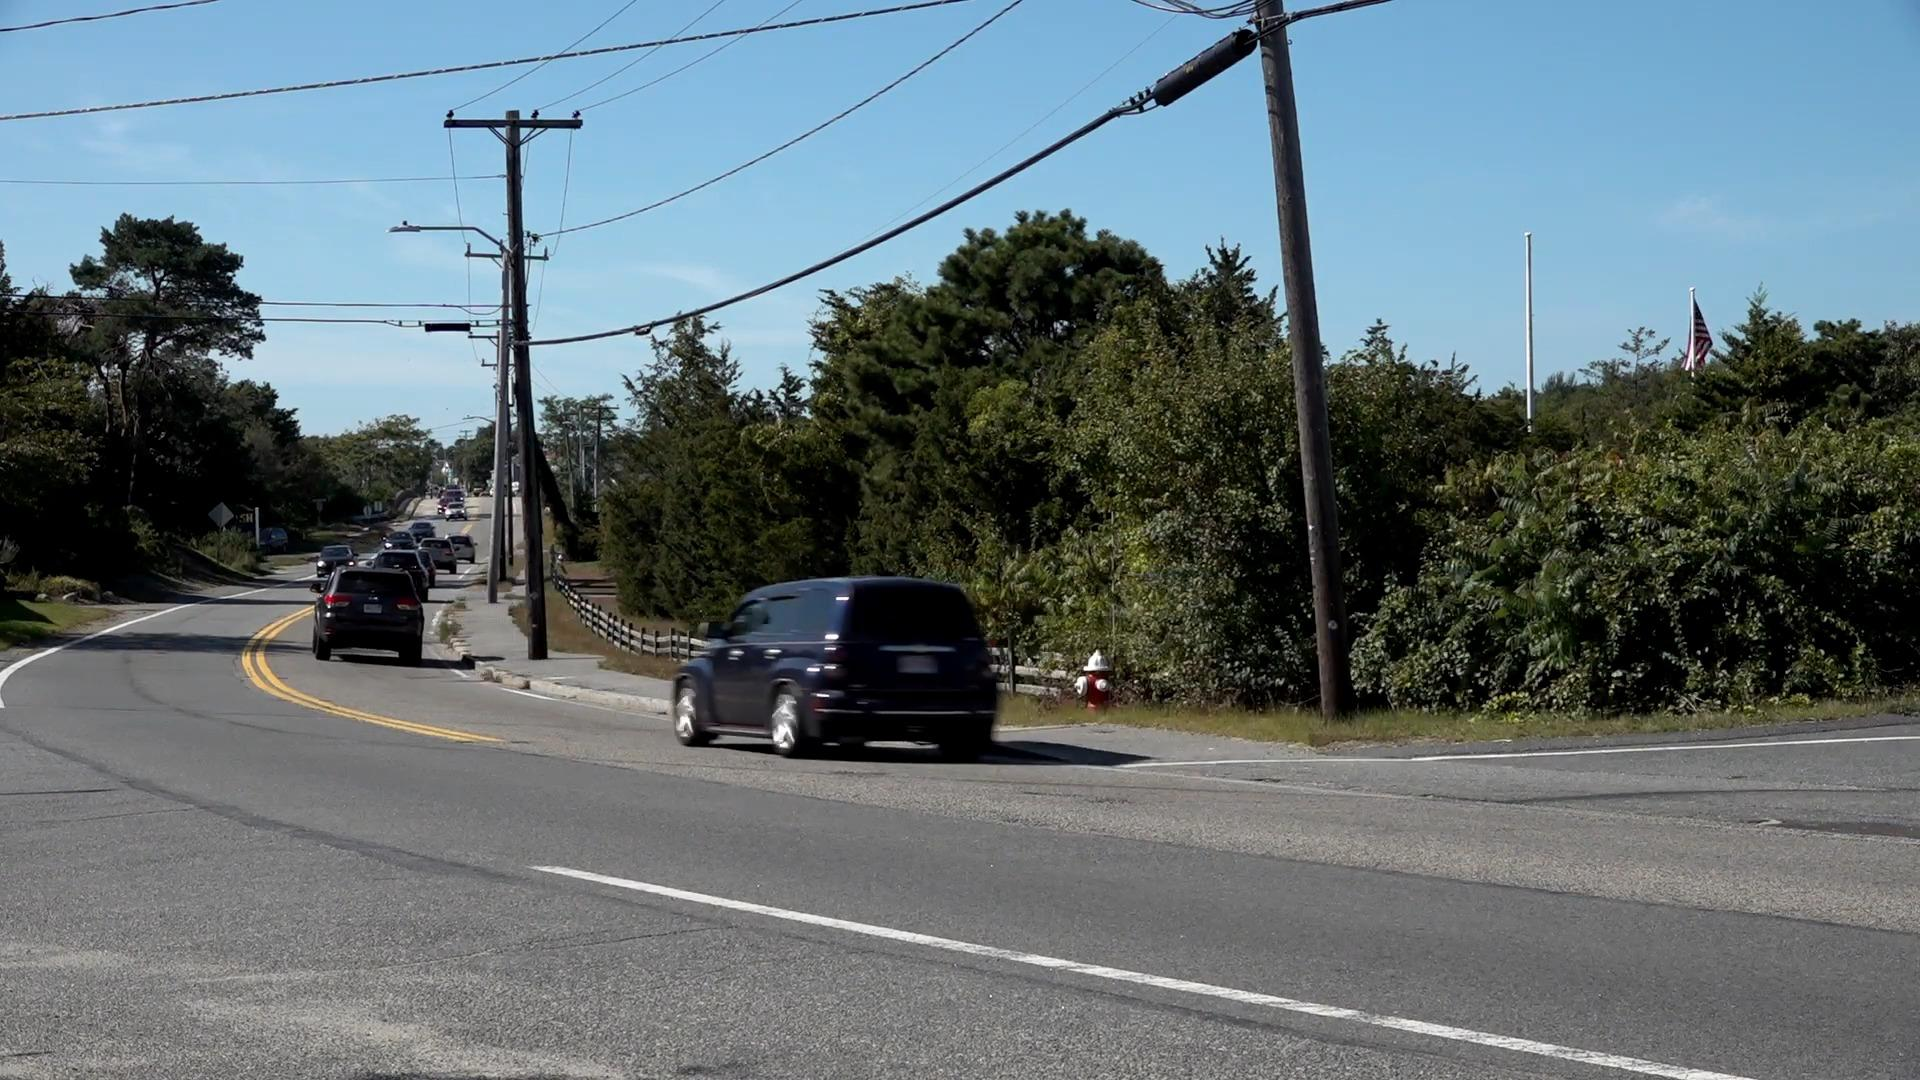suv: (670, 578, 1001, 761), (314, 567, 426, 666)
